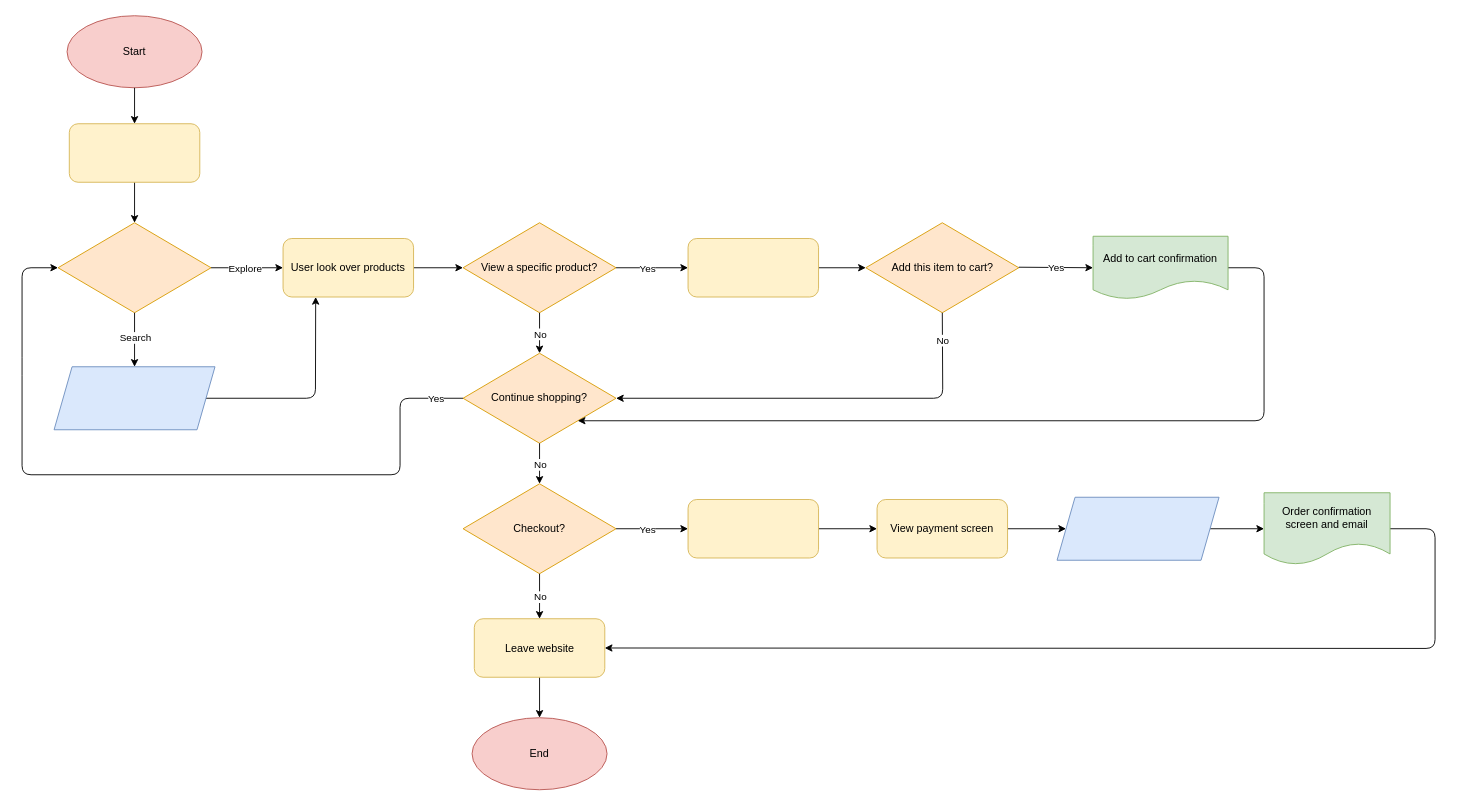
Some shapes in this 1458 by 806 pixel diagram are drawn without their labels. The centre of each missing label's shape, as x and y in pixels:
"Product webpage open" goes at pixel 753 267.
"Search or explore items?" goes at pixel 134 267.
"User enter the website" goes at pixel 134 152.
"User input for item search" goes at pixel 134 398.
"User input for payment information" goes at pixel 1137 528.
"View cart screen" goes at pixel 753 528.
